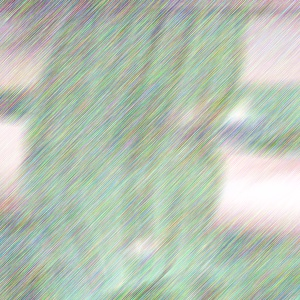Brown_Spot: (158, 81, 223, 164), (116, 219, 180, 264)
